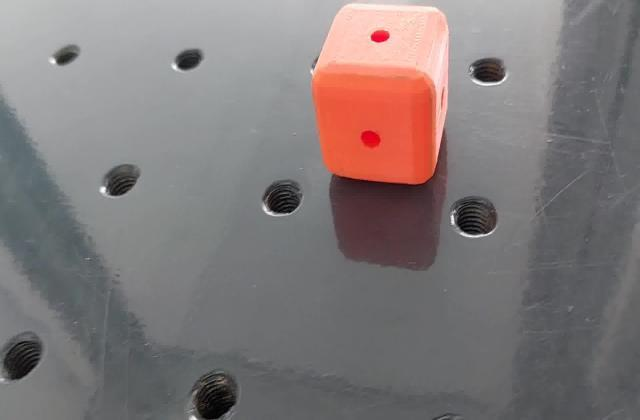cube: (307, 1, 453, 188)
